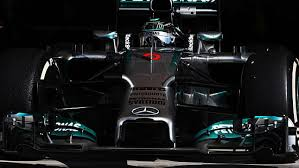FormulaOneCar: (5, 1, 296, 168)
